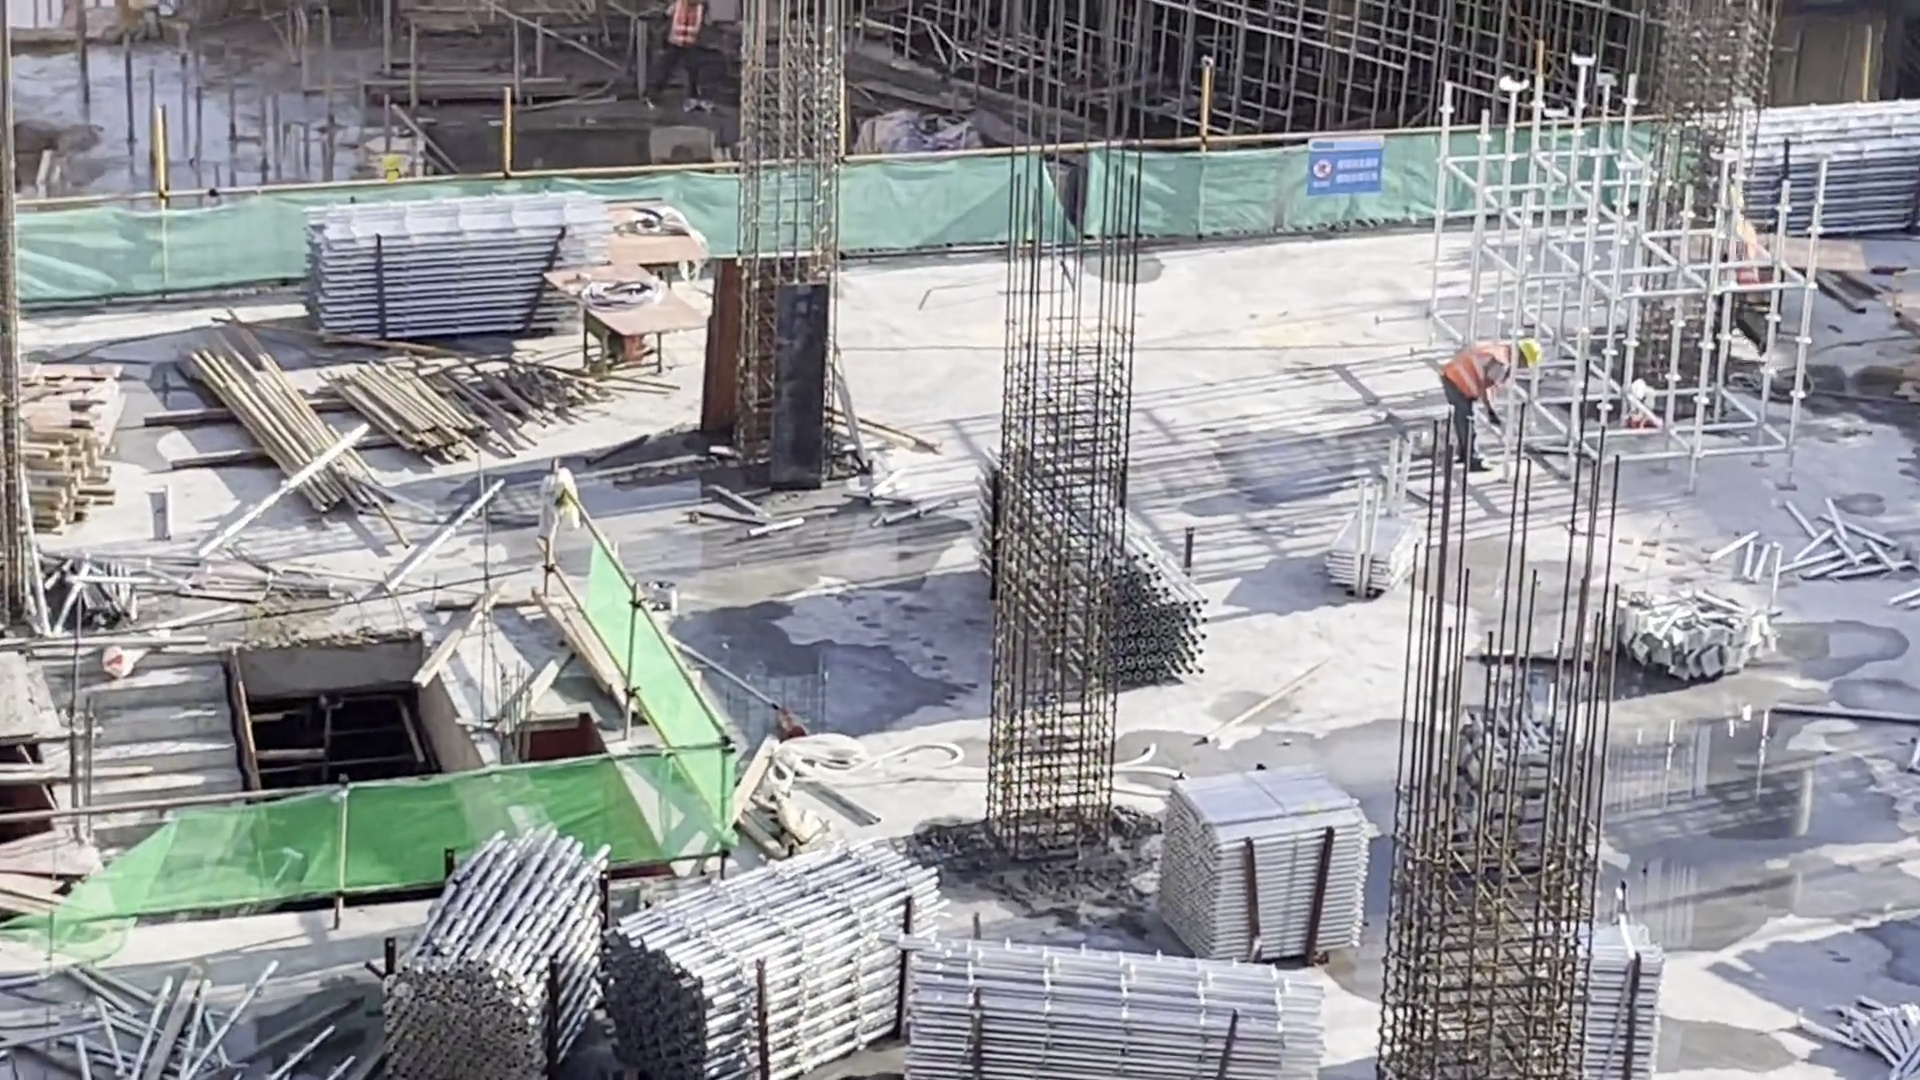cutter: (1676, 247, 1865, 354), (568, 276, 669, 373), (609, 195, 700, 286)
helmet: (1517, 337, 1544, 366)
person: (1426, 332, 1547, 478), (1716, 185, 1775, 370), (651, 1, 711, 106)
scaffold: (591, 841, 940, 1072), (995, 448, 1229, 708), (388, 823, 581, 1080), (927, 957, 1323, 1080), (329, 211, 579, 333), (1169, 773, 1364, 924), (1497, 920, 1631, 1080), (1707, 141, 1920, 241), (1321, 505, 1418, 595)
slogan: (1314, 145, 1386, 191)
vest: (1440, 344, 1509, 410), (1729, 225, 1759, 289)
wood: (9, 403, 109, 528)
